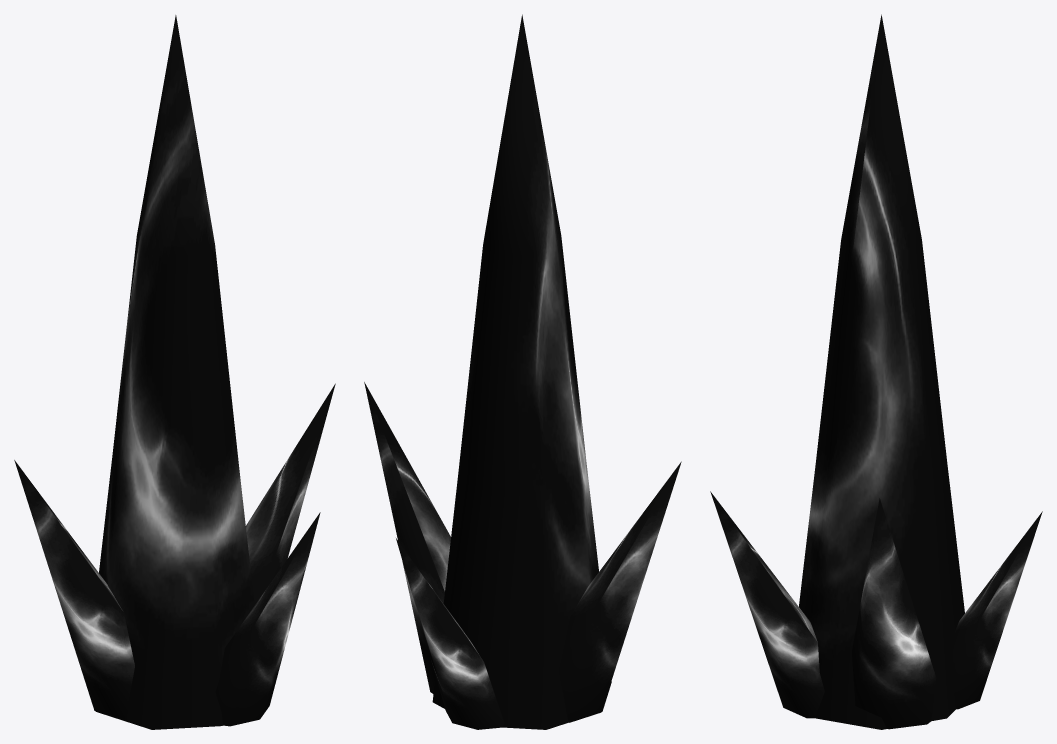
Rendered from 0234_bingzhu_M_02.glb.
3 renders of one model, left to right at view 1: azimuth 30°, elevation 25°; view 2: azimuth 150°, elevation 25°; view 3: azimuth 270°, elevation 25°, orthographic.
Size of the model in its own units: 1.09 by 2.2 by 0.9802.
1 material, 1 textured.
